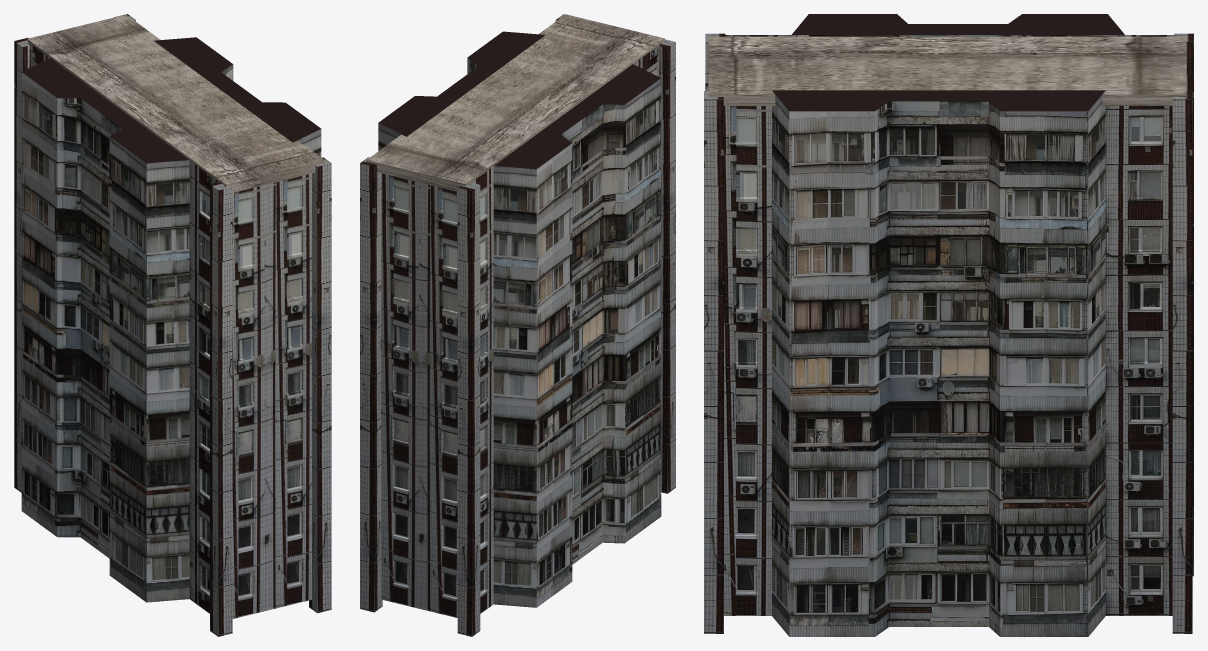
Rendered from apartment_section.glb.
3 renders of one model, left to right at view 1: azimuth 30°, elevation 25°; view 2: azimuth 150°, elevation 25°; view 3: azimuth 270°, elevation 25°, orthographic. The views are drawn at different scales.
Parts seen in each view (by area): view 1: apartment_section; view 2: apartment_section; view 3: apartment_section.
Boxes of the visible parts, <box> form: apartment_section: <box>14,14,331,636</box>; apartment_section: <box>360,14,675,636</box>; apartment_section: <box>704,14,1193,636</box>.
Bounding box in the file's own units: 8.6 × 22.12 × 18.28.
Materials: 3 (3 with a texture image).
